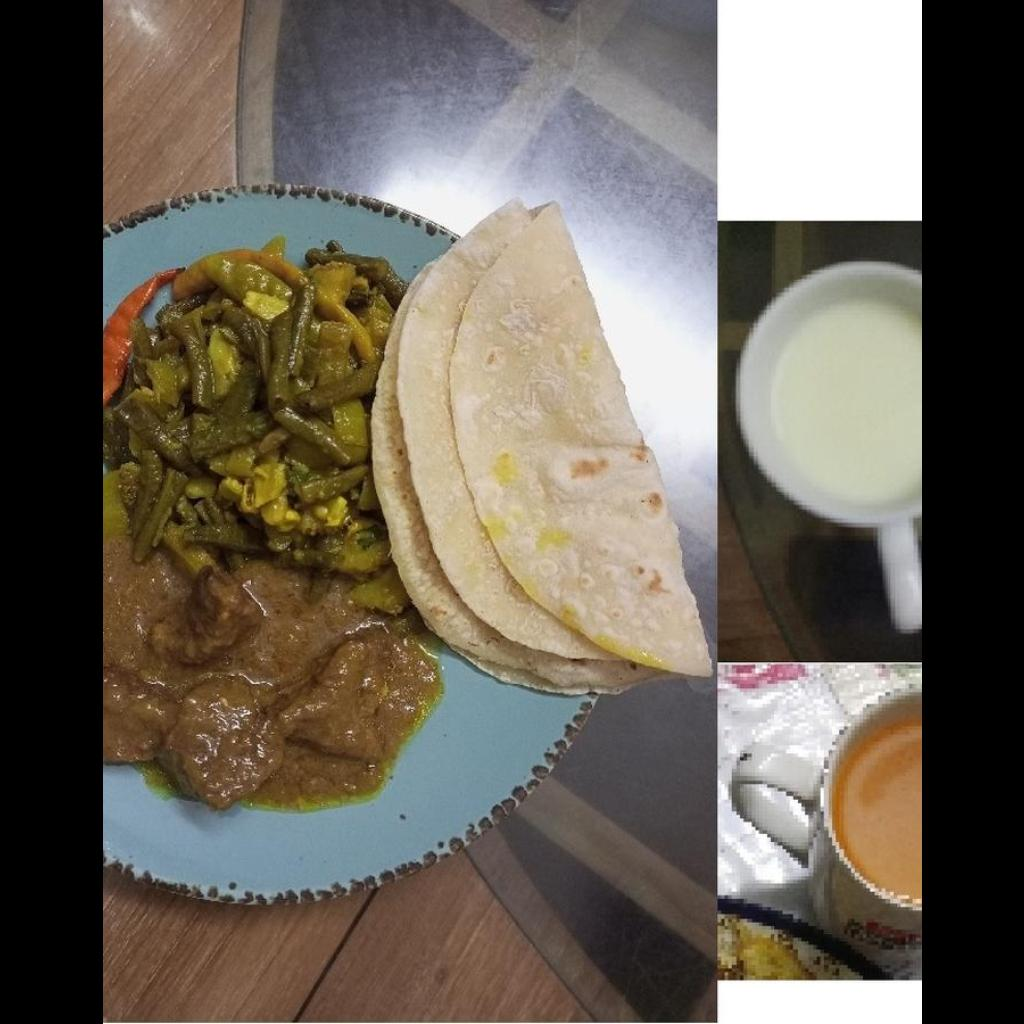beef: (112, 571, 434, 806)
cha: (828, 694, 920, 908)
milk: (736, 263, 920, 527)
ruti: (372, 200, 702, 706)
vaji: (102, 240, 405, 614)
